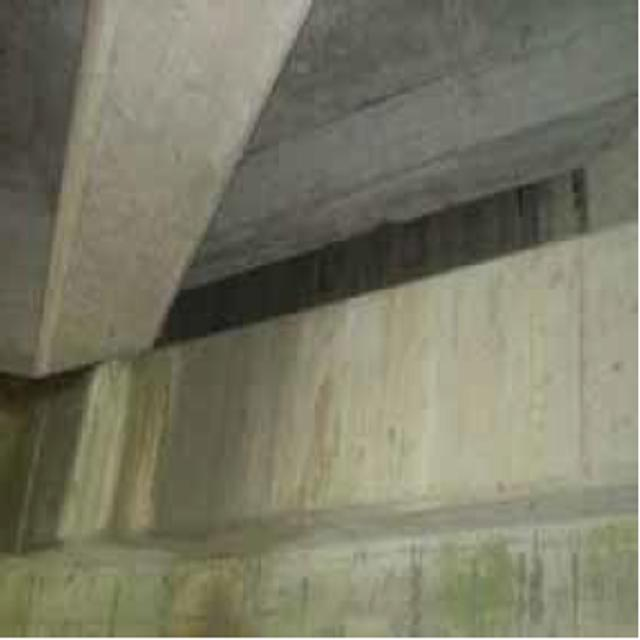leakage: (14, 367, 174, 540)
